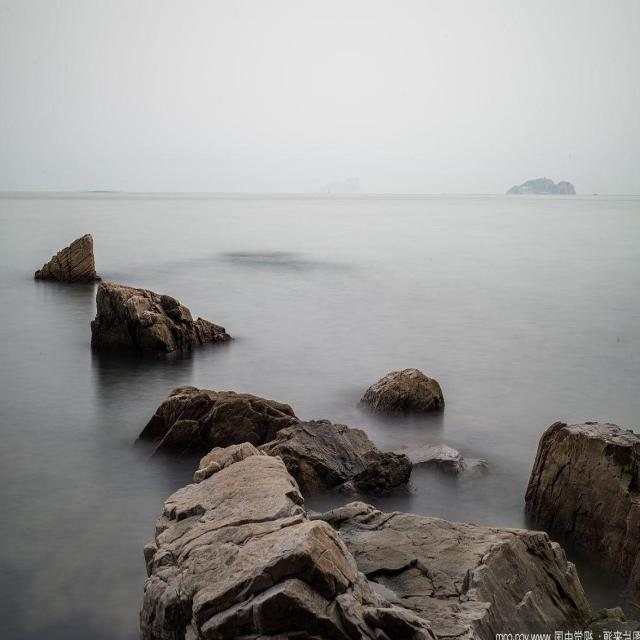reef: (22, 214, 248, 376), (523, 402, 640, 602), (362, 351, 455, 419)
